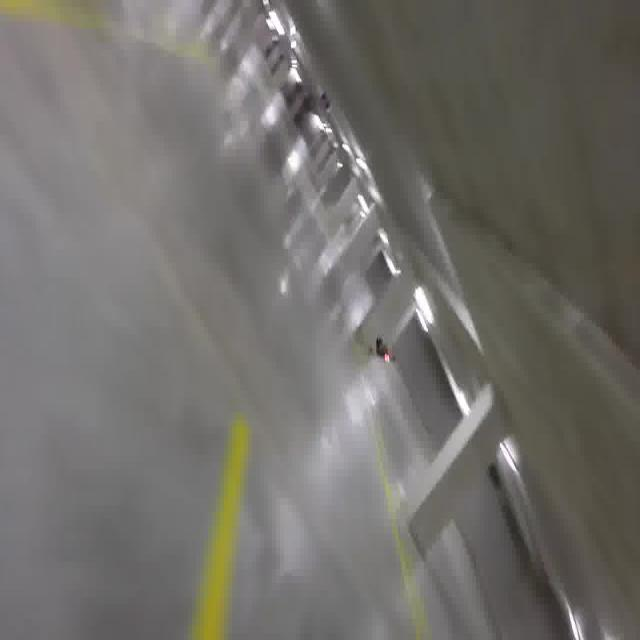drone: (368, 334, 397, 372)
